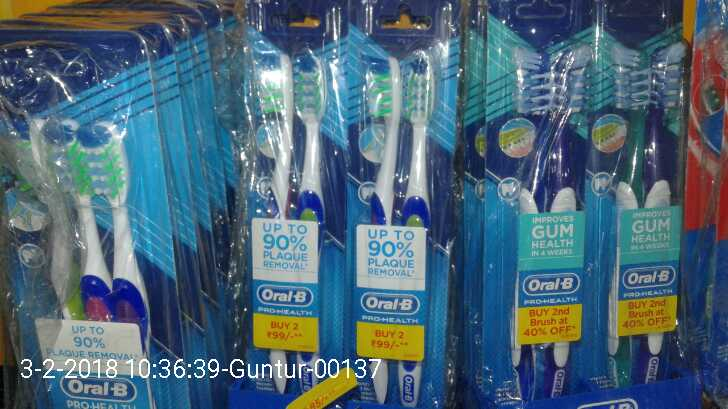oralb: (8, 57, 174, 409), (479, 37, 595, 409), (246, 45, 350, 397), (601, 36, 701, 385), (356, 46, 442, 408)
